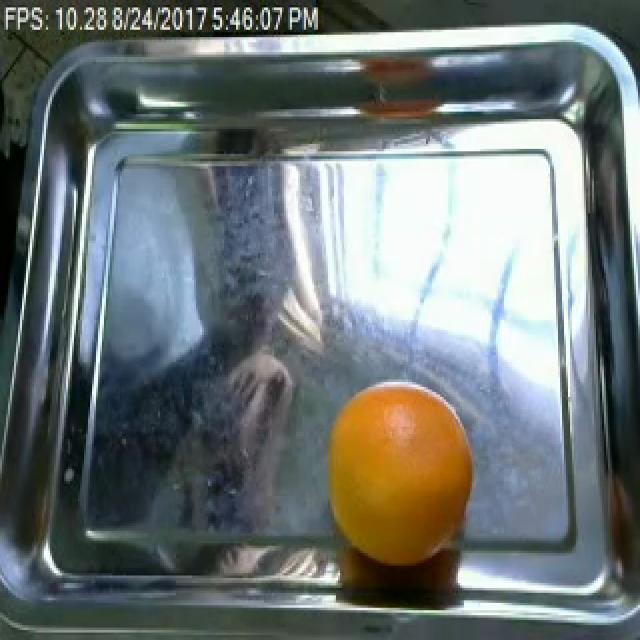Fruit: (328, 382, 478, 571)
